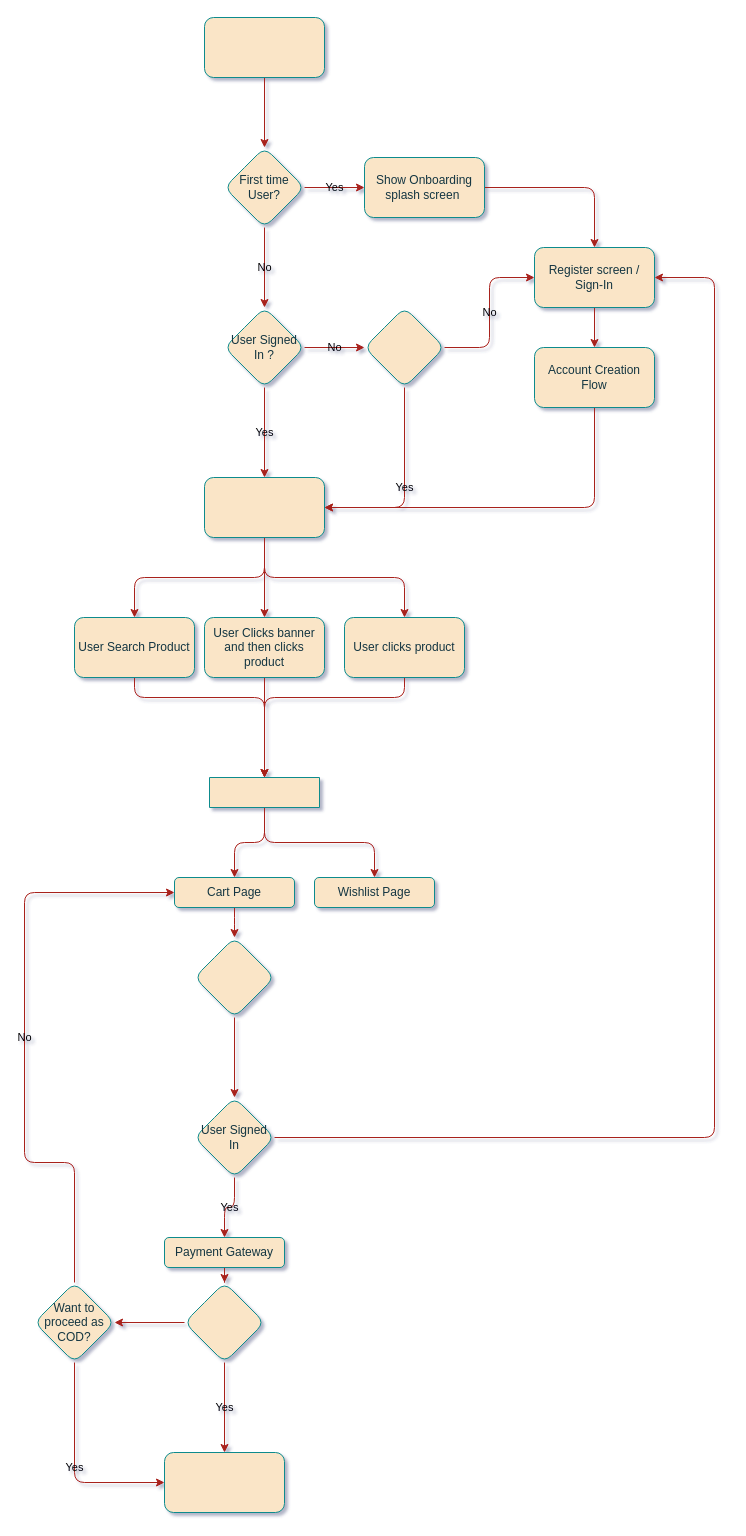
This 746x1536 diagram has some shape labels left out. Here are the shapes that lost their labels. From the top down, the centre of each, then its label:
At [264,47]: "App Launch".
At [404,347]: "Continue as guest".
At [264,507]: "Open Home Screen".
At [264,792]: "Open Product Details Page".
At [234,977]: "Proceed to Checkout".
At [224,1322]: "Payment success".
At [224,1482]: "Order Placed".
